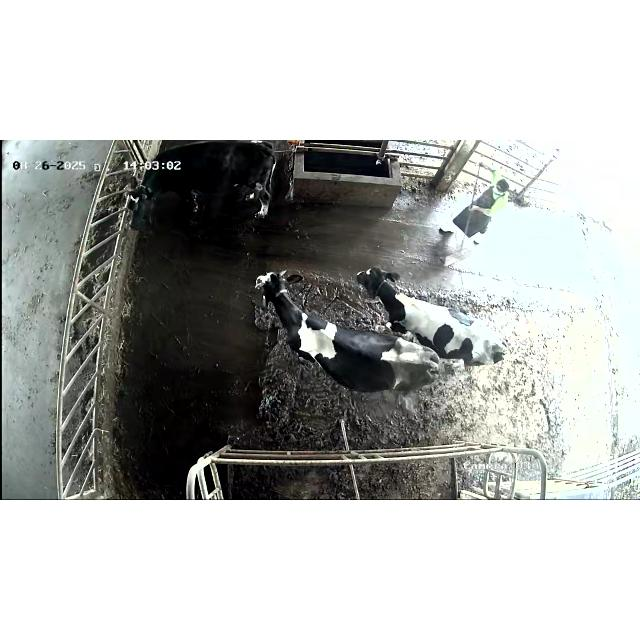stand: (255, 270, 439, 392), (128, 141, 284, 239), (356, 267, 507, 367)
